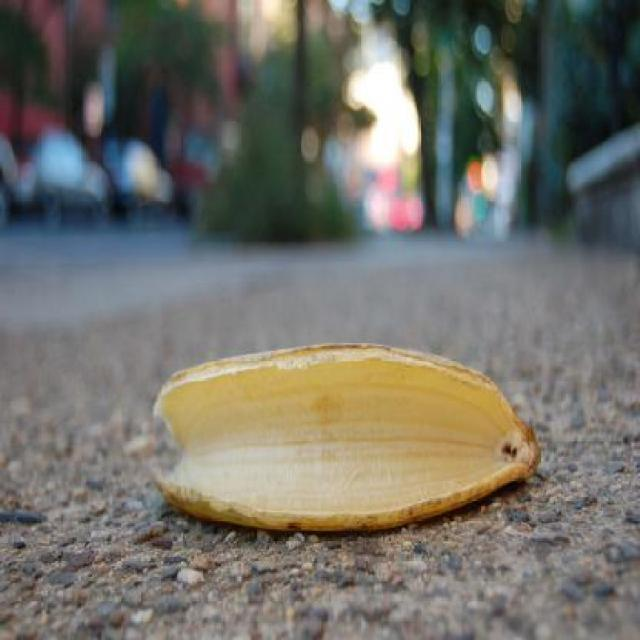banana-peel: (150, 341, 541, 533)
